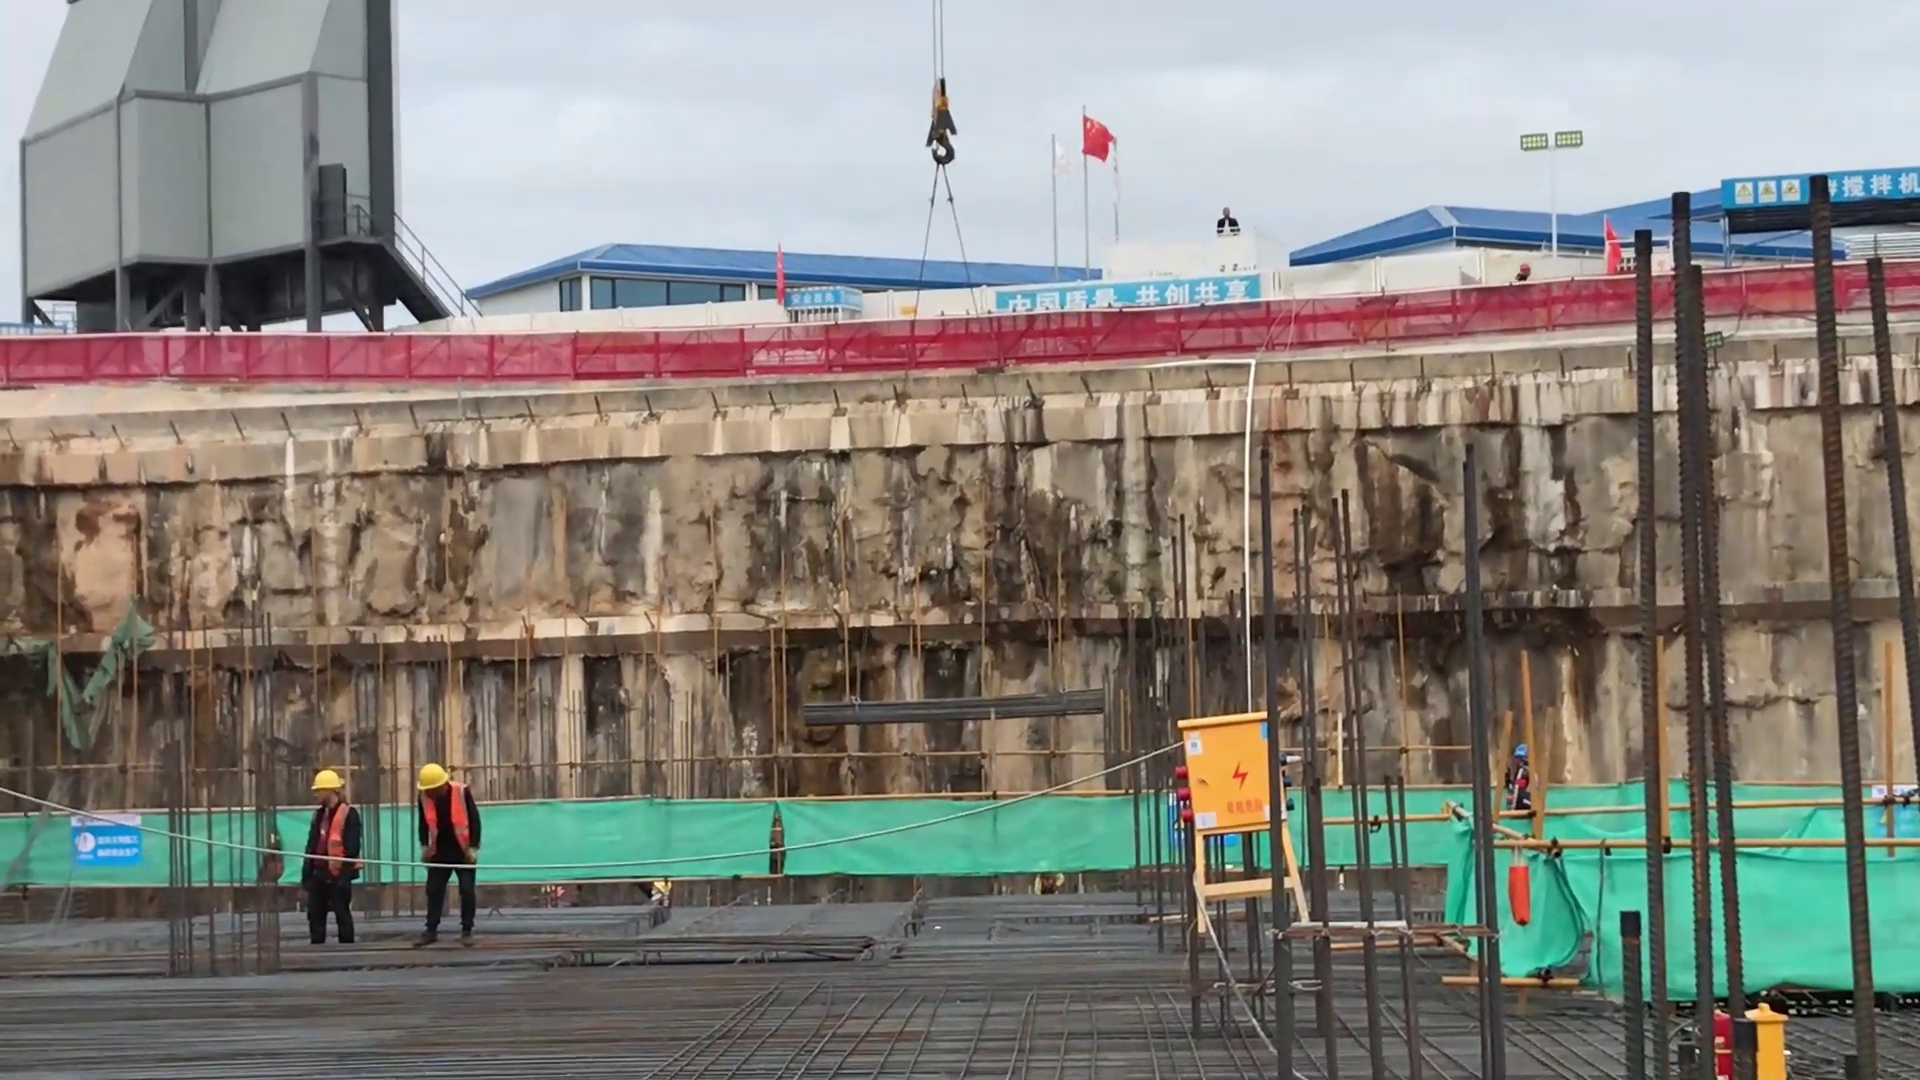ebox: (1158, 690, 1313, 951)
fence: (6, 314, 722, 409), (729, 316, 1210, 390), (1214, 275, 1580, 355), (1587, 262, 1920, 334)
helmet: (404, 760, 455, 793), (302, 768, 356, 795), (1511, 743, 1529, 760), (1515, 262, 1531, 271)
hook: (878, 36, 1011, 201)
person: (405, 764, 486, 950), (304, 766, 378, 958), (1211, 199, 1248, 243), (1506, 250, 1538, 287)
slogan: (969, 269, 1298, 319), (1697, 159, 1920, 227), (48, 800, 166, 880), (775, 267, 877, 326)
vest: (301, 802, 367, 880), (416, 785, 482, 858)
